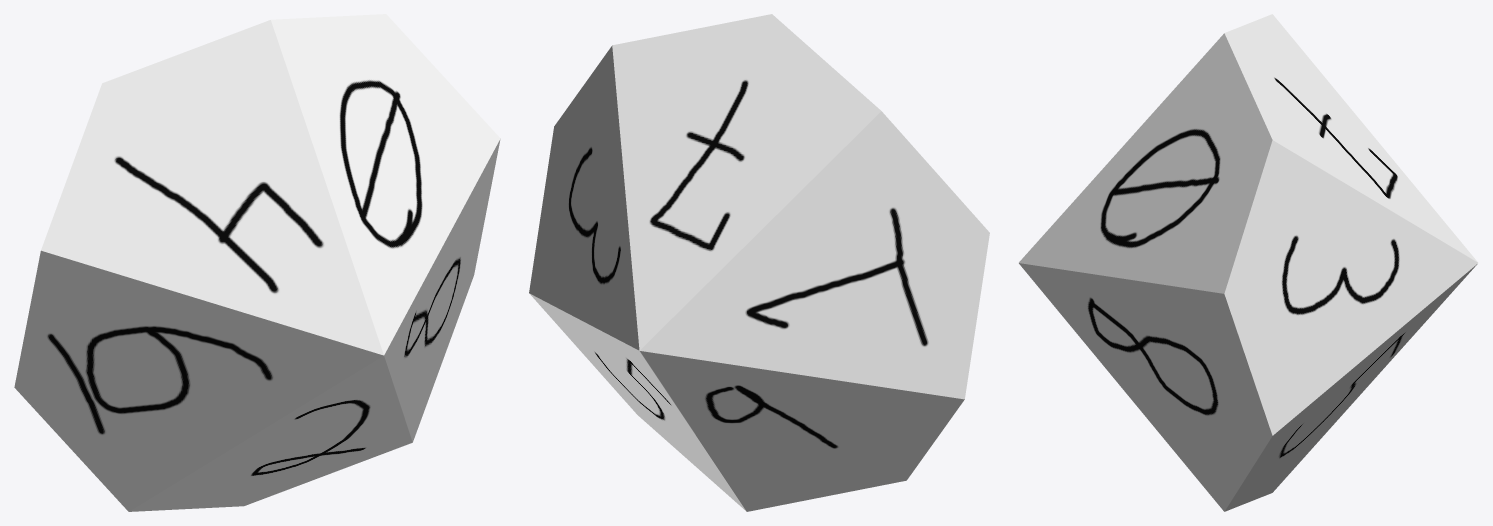
The picture shows the model from 3 angles, left to right: view 1: azimuth 30°, elevation 25°; view 2: azimuth 150°, elevation 25°; view 3: azimuth 270°, elevation 25°; orthographic projection. The views are drawn at different scales.
Parts seen in each view (by area): view 1: Pentagonal trapezohedron; view 2: Pentagonal trapezohedron; view 3: Pentagonal trapezohedron.
Boxes of the visible parts, x1,y1,x2,y2 form: Pentagonal trapezohedron: [14, 14, 500, 511]; Pentagonal trapezohedron: [529, 14, 989, 511]; Pentagonal trapezohedron: [1019, 14, 1477, 511].
Bounding box in the file's own units: 8560 × 9000 × 8163.
